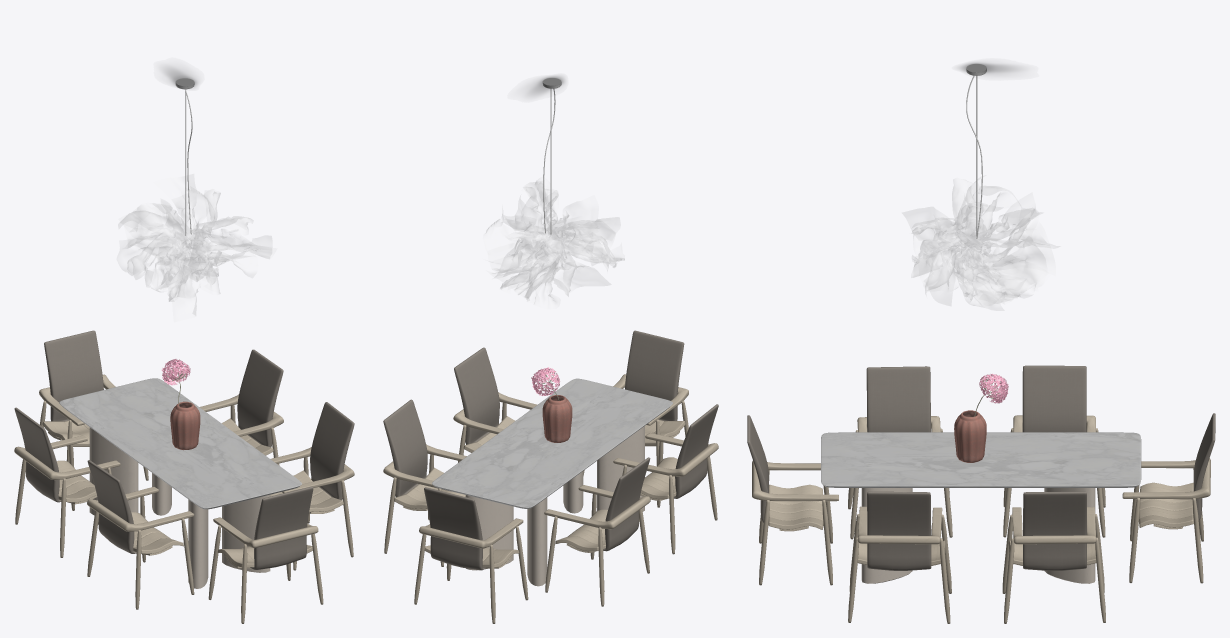
Rendered from minimalistic_dinner_set.glb.
3 renders of one model, left to right at view 1: azimuth 30°, elevation 25°; view 2: azimuth 150°, elevation 25°; view 3: azimuth 270°, elevation 25°, orthographic. The views are drawn at different scales.
Visible parts, largest first — view 1: Table-Top, Light_Fabric_Light_Fabric_0, Table-Bot, Stool_Fabric003, Stool_Fabric, Stool_Wood005, Stool_Wood004, Stool_Fabric002, Stool_Fabric001, Stool_Wood, Stool_Fabric005, Stool_Wood001 (+6 smaller); view 2: Table-Top, Light_Fabric_Light_Fabric_0, Table-Bot, Stool_Fabric, Stool_Fabric003, Stool_Wood004, Stool_Wood005, Stool_Fabric001, Stool_Fabric002, Stool_Wood003, Stool_Wood002, Stool_Fabric004 (+6 smaller); view 3: Table-Top, Light_Fabric_Light_Fabric_0, Stool_Fabric001, Stool_Fabric002, Stool_Fabric004, Stool_Wood, Stool_Wood003, Stool_Fabric005, Stool_Wood001, Stool_Wood002, Table-Bot, Vase (+6 smaller).
Boxes of the visible parts, x1=… form: Table-Top: x1=59, y1=378, x2=301, y2=509; Light_Fabric_Light_Fabric_0: x1=120, y1=186, x2=272, y2=315; Table-Bot: x1=89, y1=427, x2=270, y2=588; Stool_Fabric003: x1=44, y1=330, x2=103, y2=421; Stool_Fabric: x1=250, y1=486, x2=313, y2=569; Stool_Wood005: x1=87, y1=487, x2=194, y2=609; Stool_Wood004: x1=14, y1=435, x2=120, y2=557; Stool_Fabric002: x1=237, y1=349, x2=283, y2=447; Stool_Fabric001: x1=310, y1=402, x2=354, y2=500; Stool_Wood: x1=208, y1=517, x2=323, y2=623; Stool_Fabric005: x1=87, y1=460, x2=136, y2=553; Stool_Wood001: x1=270, y1=447, x2=354, y2=570; Table-Top: x1=432, y1=378, x2=672, y2=508; Light_Fabric_Light_Fabric_0: x1=485, y1=180, x2=624, y2=303; Table-Bot: x1=465, y1=426, x2=644, y2=586; Stool_Fabric: x1=625, y1=330, x2=684, y2=420; Stool_Fabric003: x1=424, y1=487, x2=486, y2=570; Stool_Wood004: x1=544, y1=485, x2=650, y2=606; Stool_Wood005: x1=613, y1=433, x2=718, y2=554; Stool_Fabric001: x1=454, y1=347, x2=499, y2=444; Stool_Fabric002: x1=383, y1=399, x2=427, y2=496; Stool_Wood003: x1=414, y1=518, x2=528, y2=623; Stool_Wood002: x1=383, y1=444, x2=466, y2=566; Stool_Fabric004: x1=603, y1=457, x2=650, y2=551; Table-Top: x1=821, y1=432, x2=1141, y2=487; Light_Fabric_Light_Fabric_0: x1=911, y1=180, x2=1050, y2=307; Stool_Fabric001: x1=867, y1=491, x2=931, y2=570; Stool_Fabric002: x1=1023, y1=491, x2=1086, y2=570; Stool_Fabric004: x1=1022, y1=365, x2=1086, y2=432; Stool_Wood: x1=752, y1=461, x2=838, y2=585; Stool_Wood003: x1=1122, y1=458, x2=1210, y2=583; Stool_Fabric005: x1=866, y1=366, x2=930, y2=432; Stool_Wood001: x1=848, y1=506, x2=951, y2=623; Stool_Wood002: x1=1002, y1=507, x2=1105, y2=623; Table-Bot: x1=861, y1=488, x2=1095, y2=583; Vase: x1=954, y1=410, x2=986, y2=462.
Size of the model in its own units: 236 by 428 by 365.
9 materials, 9 textured.
